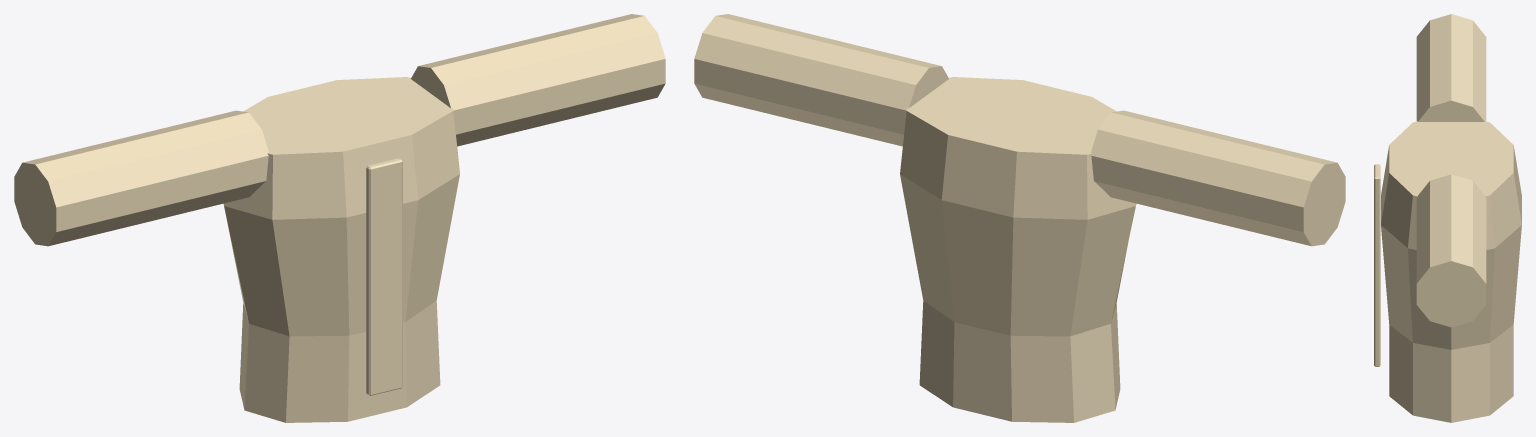
Rendered from Modular_Male_Jacket.fbx.
The picture shows the model from 3 angles, left to right: view 1: azimuth 30°, elevation 25°; view 2: azimuth 150°, elevation 25°; view 3: azimuth 270°, elevation 25°; orthographic projection. The views are drawn at different scales.
Parts seen in each view (by area): view 1: Shirt.015, Sleeve.030, Sleeve.031, JacketOpening.003; view 2: Shirt.015, Sleeve.030, Sleeve.031; view 3: Shirt.015, Sleeve.031, Sleeve.030, JacketOpening.003.
Part boxes in pixels (bbox=[...]): Shirt.015: bbox=[223, 77, 459, 422]; Sleeve.030: bbox=[14, 110, 268, 246]; Sleeve.031: bbox=[411, 14, 665, 146]; JacketOpening.003: bbox=[366, 158, 402, 395]; Shirt.015: bbox=[900, 77, 1136, 422]; Sleeve.030: bbox=[1091, 110, 1345, 246]; Sleeve.031: bbox=[694, 14, 948, 146]; Shirt.015: bbox=[1381, 121, 1521, 422]; Sleeve.031: bbox=[1416, 174, 1486, 327]; Sleeve.030: bbox=[1416, 14, 1486, 121]; JacketOpening.003: bbox=[1374, 164, 1380, 366].
Bounding box in the file's own units: 1.34 × 0.624 × 0.3392.
